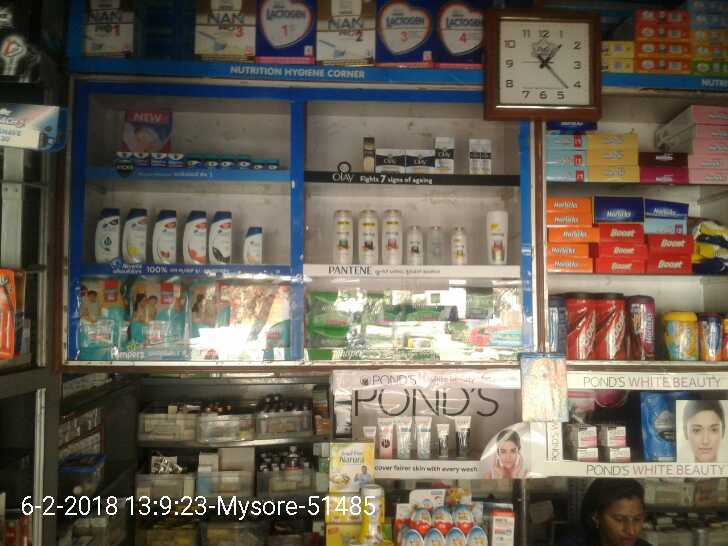beauty: (203, 206, 234, 268), (146, 202, 174, 269), (90, 208, 120, 262), (119, 205, 145, 264), (484, 209, 509, 264), (183, 204, 204, 268), (358, 205, 379, 265), (240, 217, 263, 263), (468, 131, 492, 175), (379, 214, 400, 262), (418, 228, 444, 266), (335, 203, 352, 260), (406, 144, 435, 175), (447, 228, 470, 266), (401, 223, 421, 262), (372, 148, 403, 172), (437, 137, 454, 171)
pharmacy: (185, 285, 287, 360), (125, 277, 182, 366), (73, 278, 125, 364), (305, 288, 386, 325), (305, 326, 389, 348), (248, 154, 280, 173), (108, 149, 133, 165), (132, 145, 148, 167), (200, 151, 219, 167), (221, 149, 234, 172), (167, 147, 183, 165), (238, 153, 250, 172), (150, 152, 165, 167), (184, 151, 199, 165)
